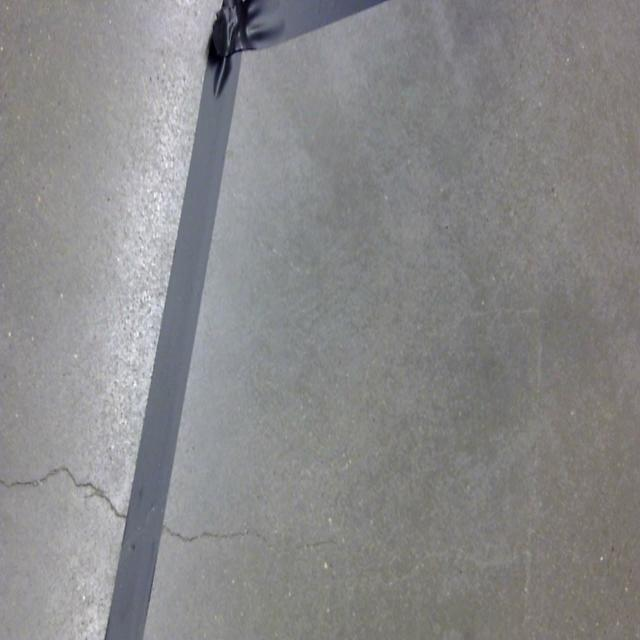tape: (86, 0, 426, 640)
